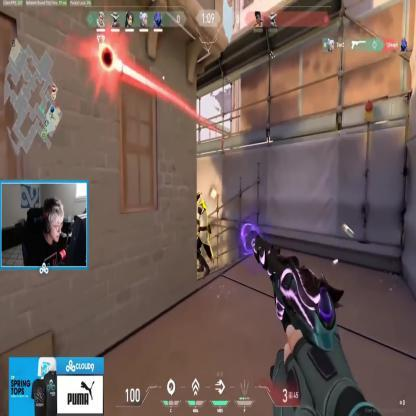enemy: (192, 190, 214, 280)
enemy_head: (193, 190, 202, 202)
